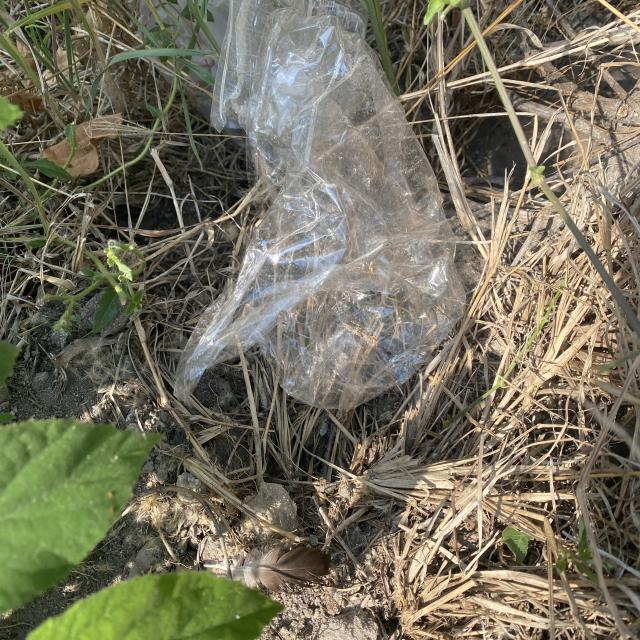Single-layer Plastic: (175, 1, 465, 409)
